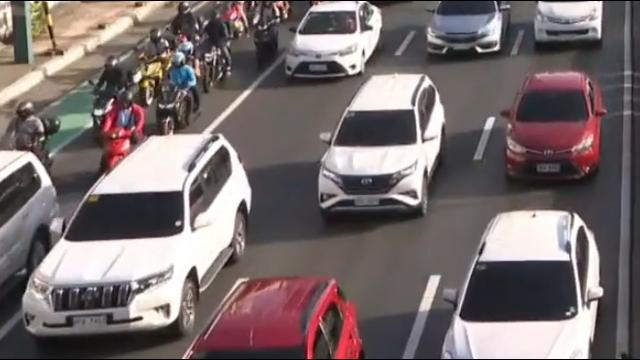car: (19, 133, 253, 339), (439, 206, 606, 360), (315, 73, 448, 219), (178, 275, 368, 360), (499, 70, 607, 188), (284, 1, 383, 81), (425, 0, 511, 56), (533, 1, 604, 48)
motorcycle: (4, 99, 61, 169), (90, 56, 131, 142), (102, 92, 146, 171), (202, 11, 239, 90), (136, 29, 173, 108), (156, 81, 198, 138), (167, 0, 202, 68), (251, 0, 281, 70)
